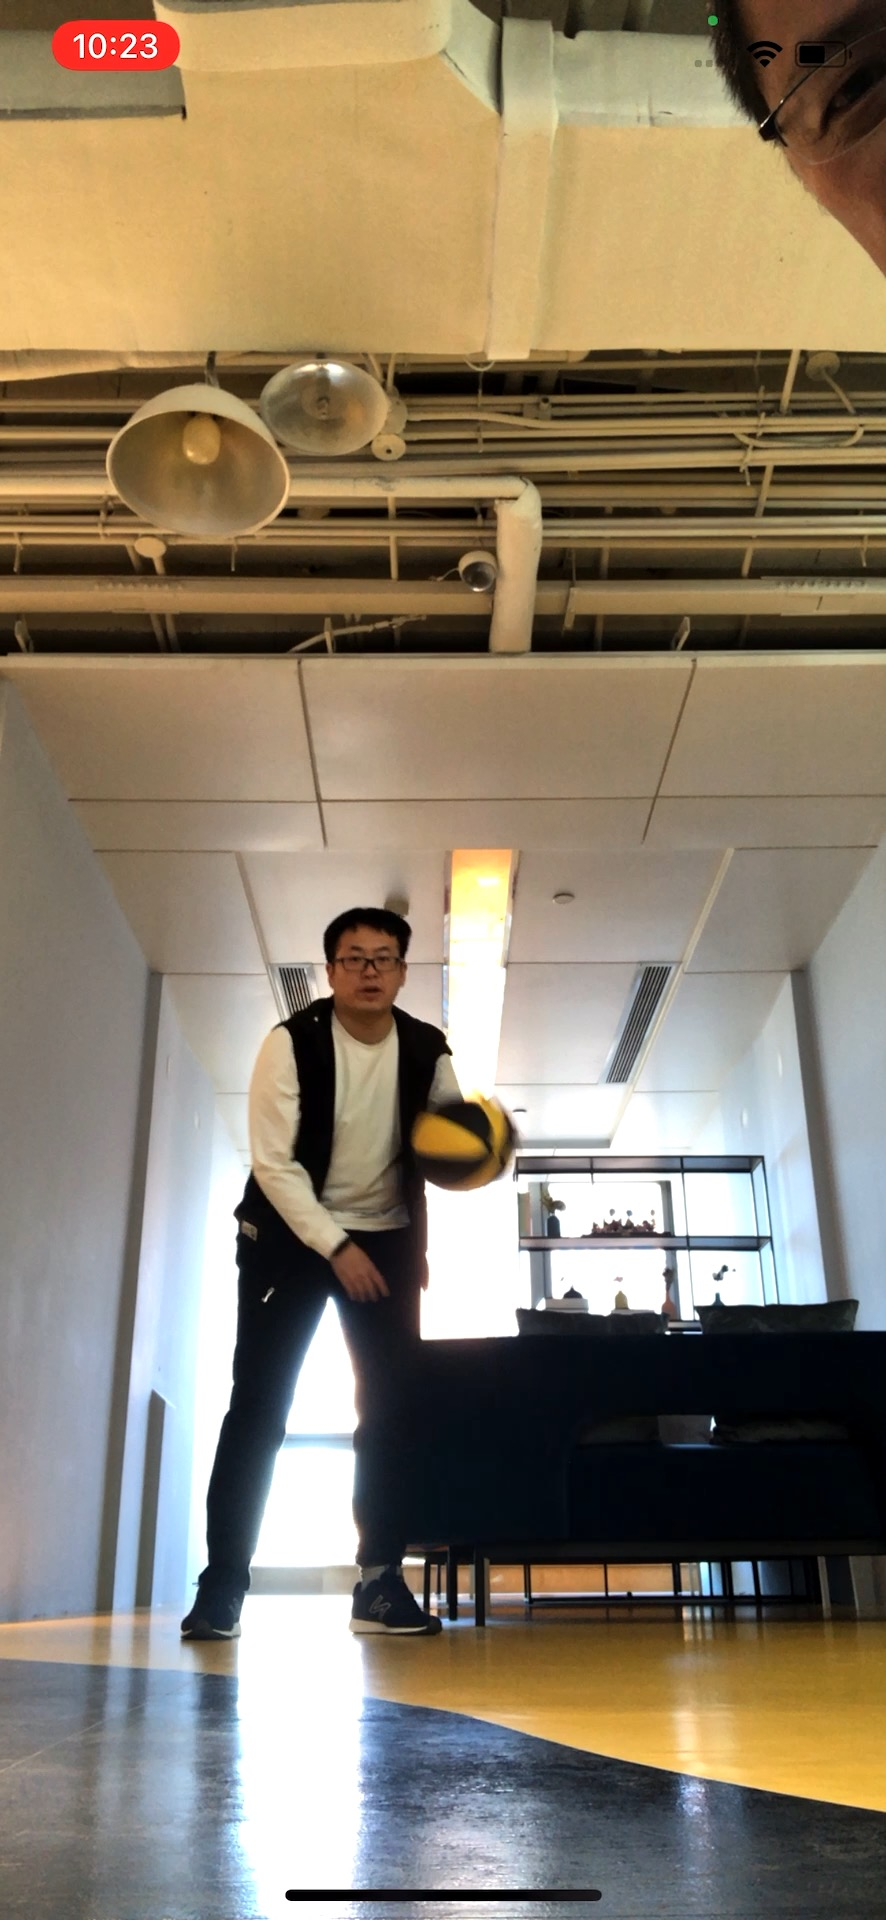ball: (414, 1093, 521, 1188)
